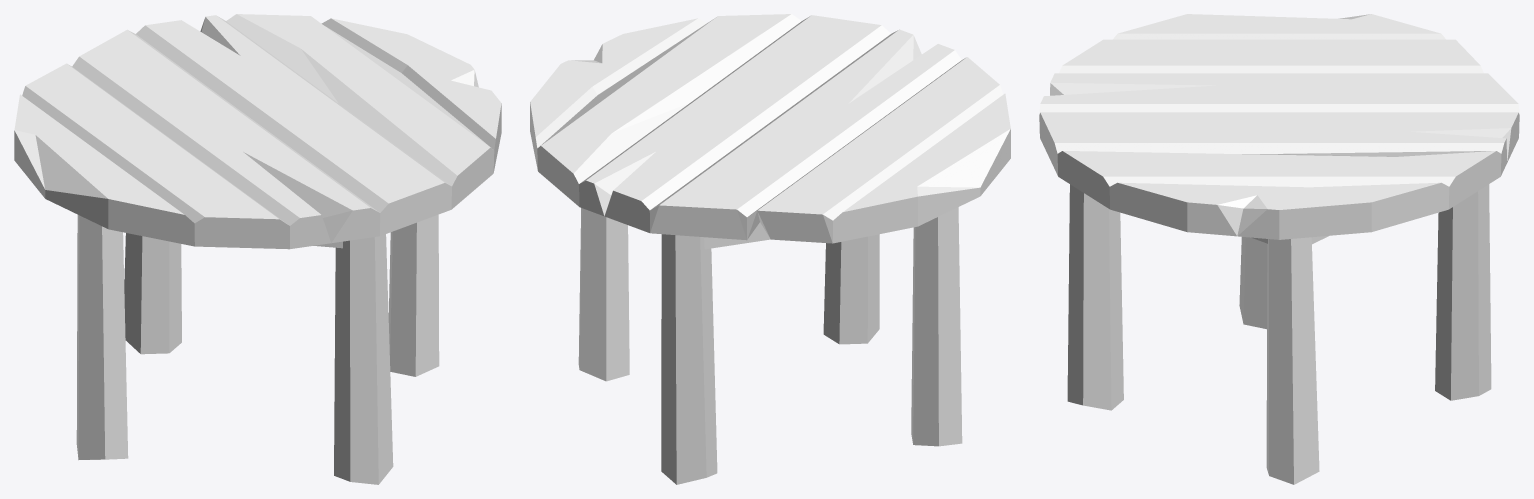
Rendered from Table Round.fbx.
The picture shows the model from 3 angles, left to right: view 1: azimuth 30°, elevation 25°; view 2: azimuth 150°, elevation 25°; view 3: azimuth 270°, elevation 25°; orthographic projection.
Parts seen in each view (by area): view 1: Table Round; view 2: Table Round; view 3: Table Round.
Boxes of the visible parts, box(x1,y1,x2,y2) form: Table Round: box(14, 14, 501, 484); Table Round: box(530, 14, 1010, 484); Table Round: box(1039, 14, 1519, 484).
Bounding box in the file's own units: 433 × 291 × 432.
1 material, 1 textured.
